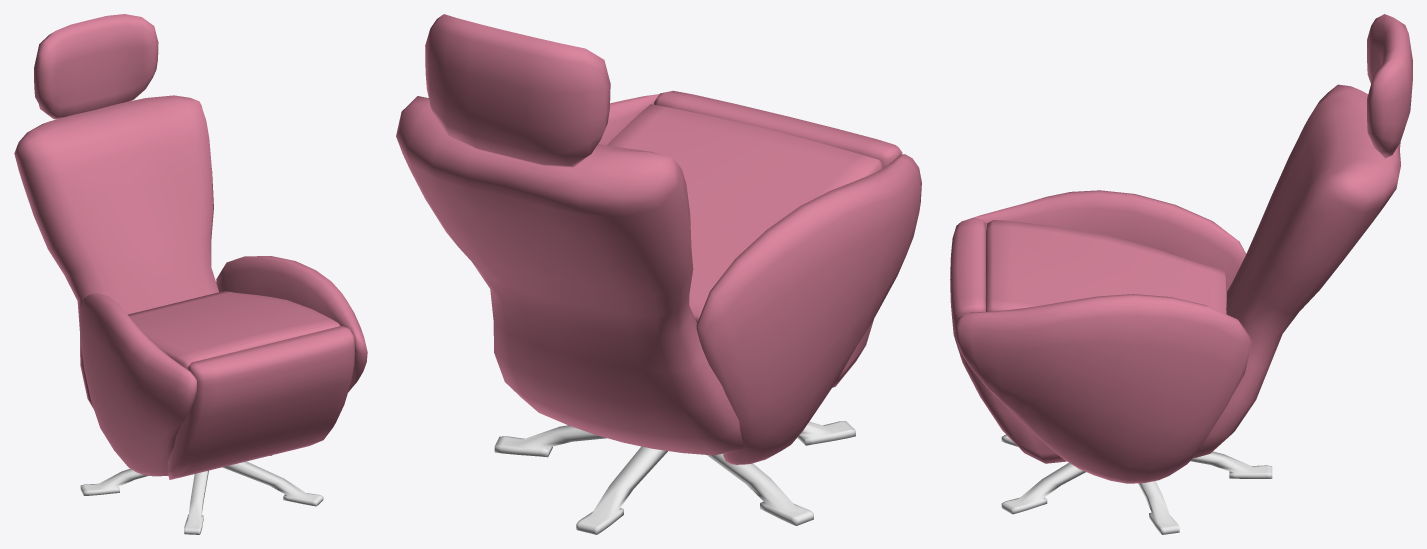
The model's file is armchair1.glb.
The picture shows the model from 3 angles, left to right: view 1: azimuth 30°, elevation 25°; view 2: azimuth 150°, elevation 25°; view 3: azimuth 270°, elevation 25°; orthographic projection. The views are drawn at different scales.
Visible parts, largest first — view 1: sofa_Cube, patas_sofa_Cube.001; view 2: sofa_Cube, patas_sofa_Cube.001; view 3: sofa_Cube, patas_sofa_Cube.001.
Part boxes in pixels (x1=…): sofa_Cube: x1=14, y1=14, x2=367, y2=479; patas_sofa_Cube.001: x1=80, y1=455, x2=323, y2=534; sofa_Cube: x1=396, y1=14, x2=921, y2=464; patas_sofa_Cube.001: x1=494, y1=421, x2=855, y2=534; sofa_Cube: x1=950, y1=14, x2=1412, y2=483; patas_sofa_Cube.001: x1=1001, y1=434, x2=1272, y2=534.
Size of the model in its own units: 2.73 by 4.49 by 4.28.
